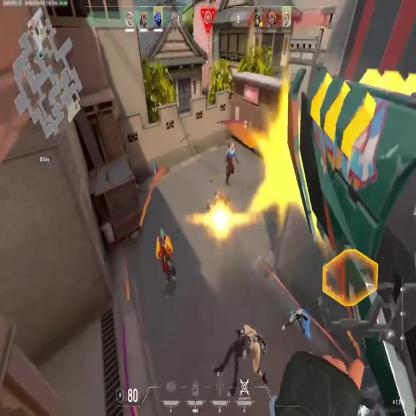enemy: (155, 228, 178, 288), (224, 141, 239, 191)
enemy_head: (159, 229, 166, 242), (230, 142, 234, 150)
